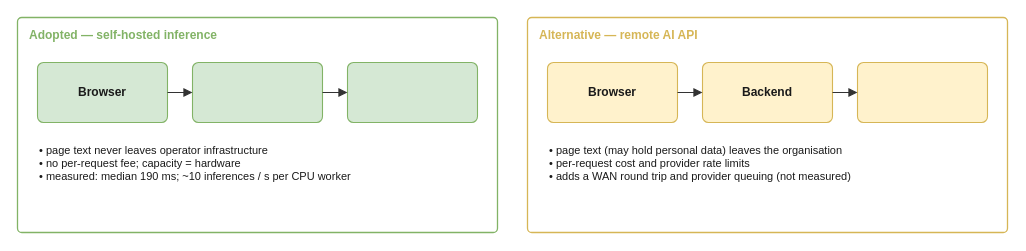
This 1026x251 diagram has some shape labels left out. The shapes that lost their labels are listed below. From the top down, each one's box as (x1, y1, x2, y2) in pixels, then its label:
(192, 62, 323, 123): Backend you operate
(346, 62, 478, 123): BERT + rules in memory
(856, 62, 988, 123): Third-party model API
